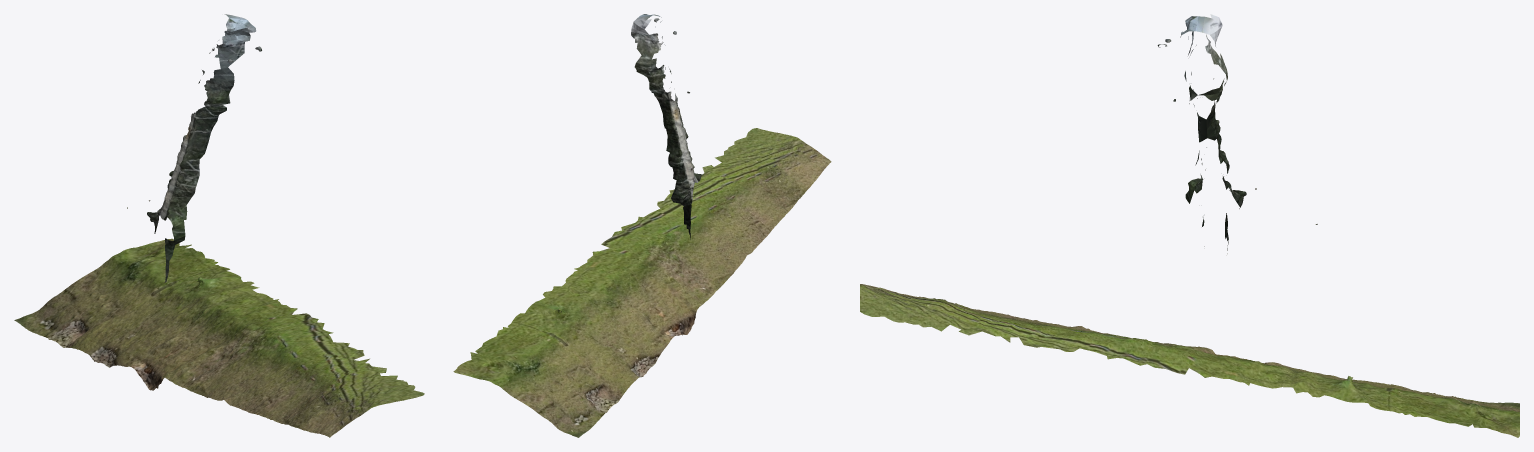
3 renders of one model, left to right at view 1: azimuth 30°, elevation 25°; view 2: azimuth 150°, elevation 25°; view 3: azimuth 270°, elevation 25°, orthographic. The views are drawn at different scales.
Bounding box in the file's own units: 2.91 × 7.07 × 10.11.
1 material, 1 textured.
